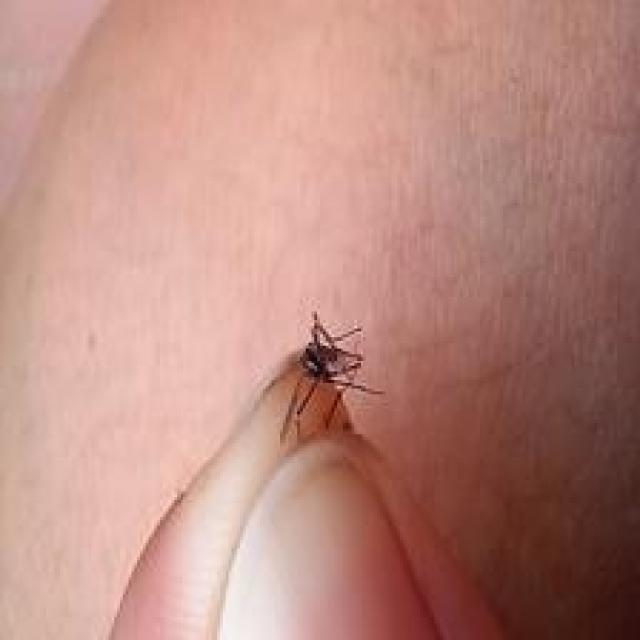Aedes albopictus: (277, 310, 386, 444)
